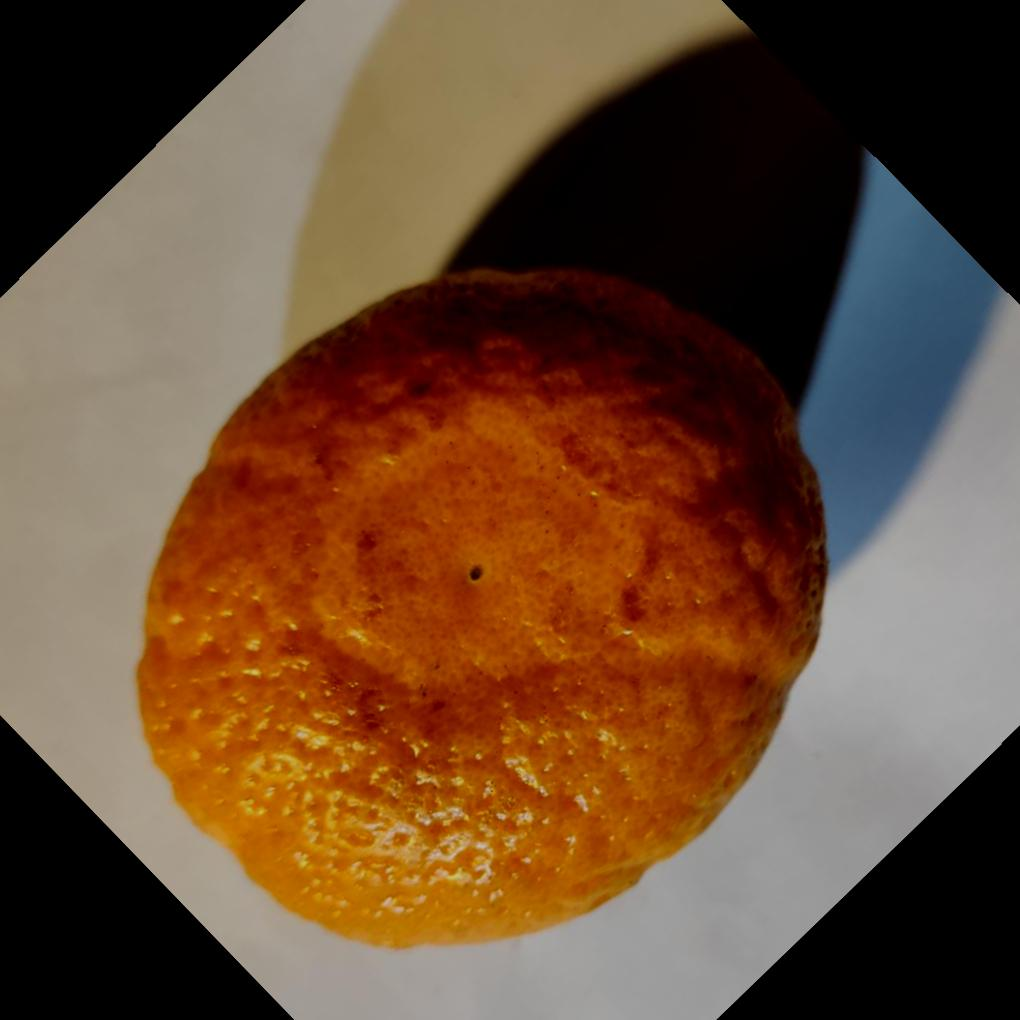FreshGuava: (131, 261, 829, 950)
